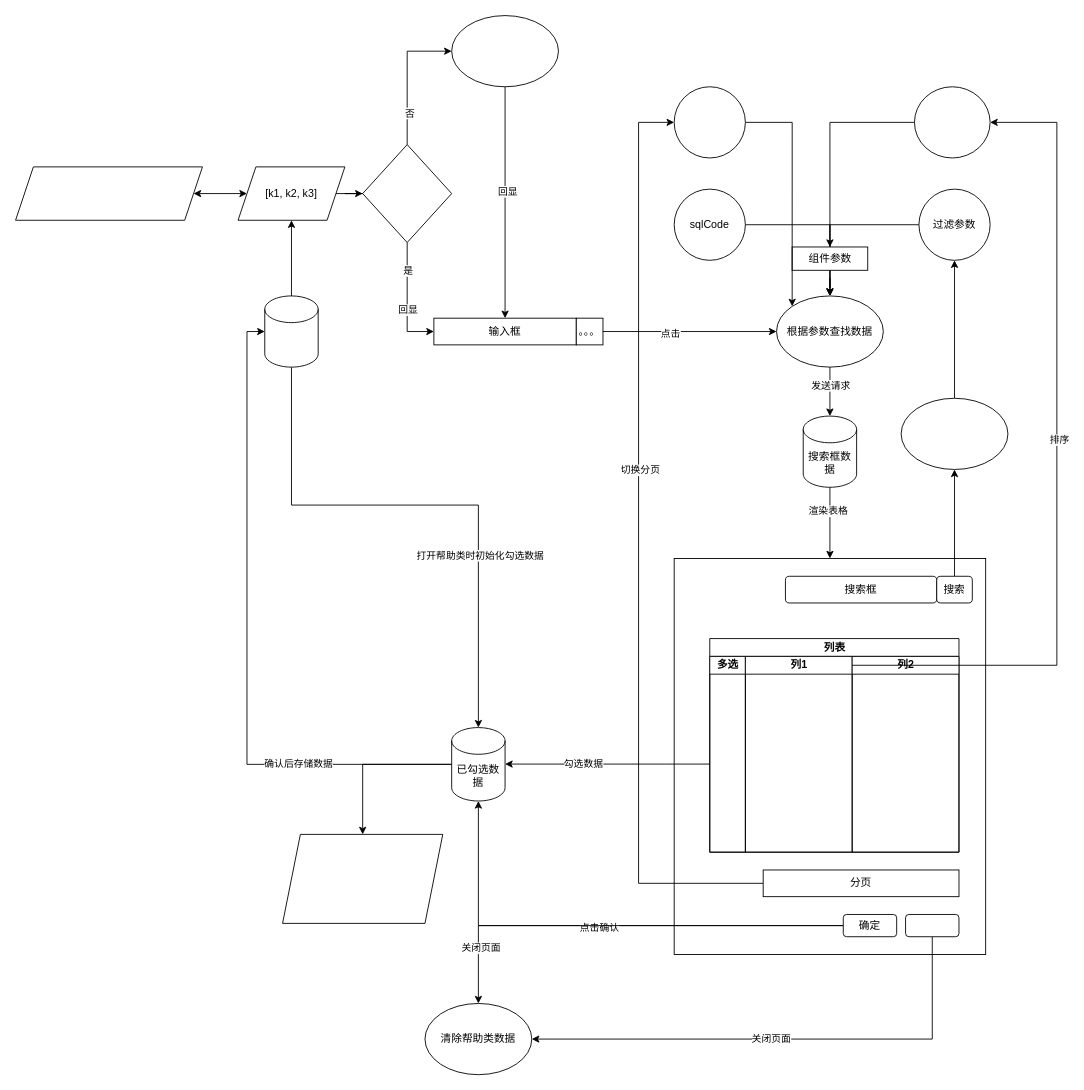
The diagram is 1084 pixels wide and 1090 high, and some of its shapes have lost their labels. Here are the shapes that lost their labels. From the top down, the centre of each, then its label:
At [504,51]: "根据code查询数据并回显".
At [709,122]: "分页参数".
At [952,122]: "排序参数".
At [108,193]: "[关键词1， 关键词2， 关键词3]".
At [407,193]: "是否有对应数据".
At [291,331]: "已选择数据".
At [954,433]: "搜索关键词".
At [362,878]: "[ { value: k1, label: 关键词1, } ]".
At [932,925]: "取消".
